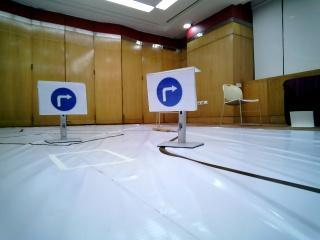right: (146, 72, 195, 108), (40, 81, 86, 114)
